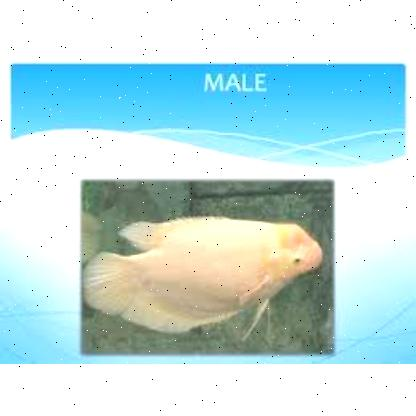gurame: (87, 209, 324, 329)
